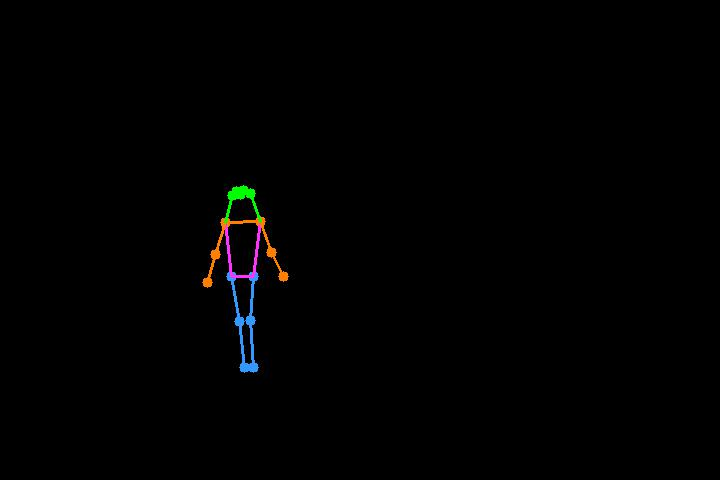normal: (195, 169, 294, 381)
